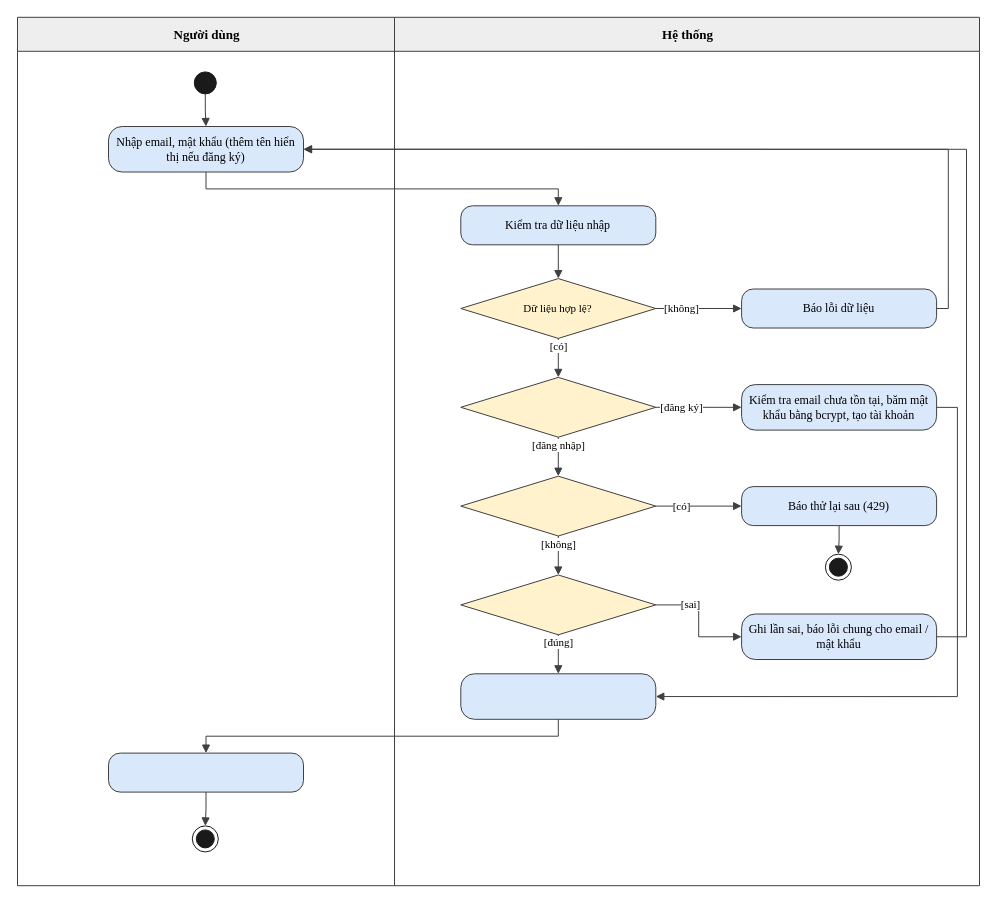
This 997x904 diagram has some shape labels left out. The shapes that lost their labels are listed below. From the top down, each one's box as (x1, y1, x2, y2) in pixels, then its label:
(460, 376, 656, 437): Yêu cầu đăng ký?
(460, 475, 656, 536): Tài khoản đang bị khóa tạm?
(460, 574, 656, 635): Mật khẩu đúng?
(460, 673, 656, 719): Tạo phiên: trả token, chỉ lưu SHA-256, hạn 30 ngày
(108, 752, 304, 792): Vào màn hình chính
